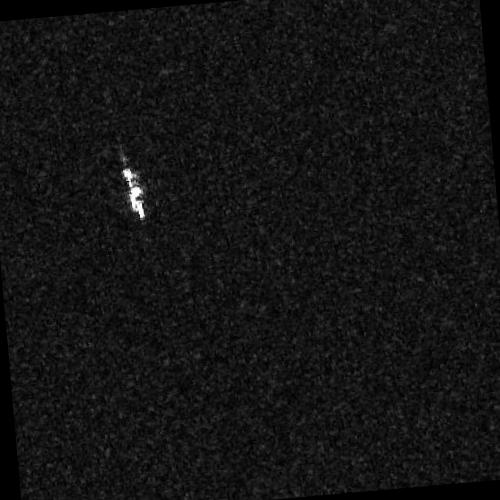ship: (119, 166, 146, 221)
